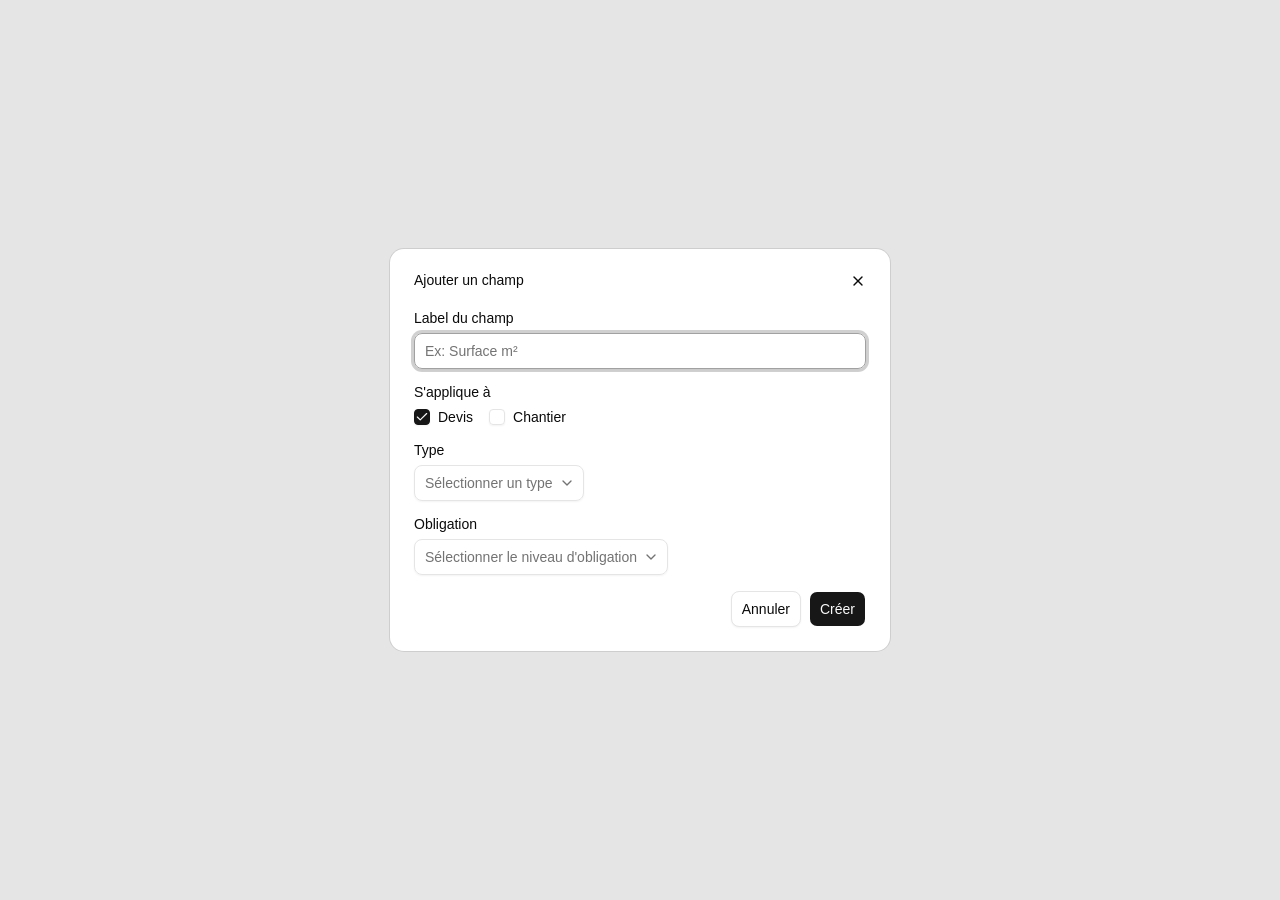
Test: CreateCustomFieldDialog › shows validation errors for empty fields
This screenshot has width=1280, height=900.
Click the button "Créer" at coordinates (838, 609), box [809,591,866,627]
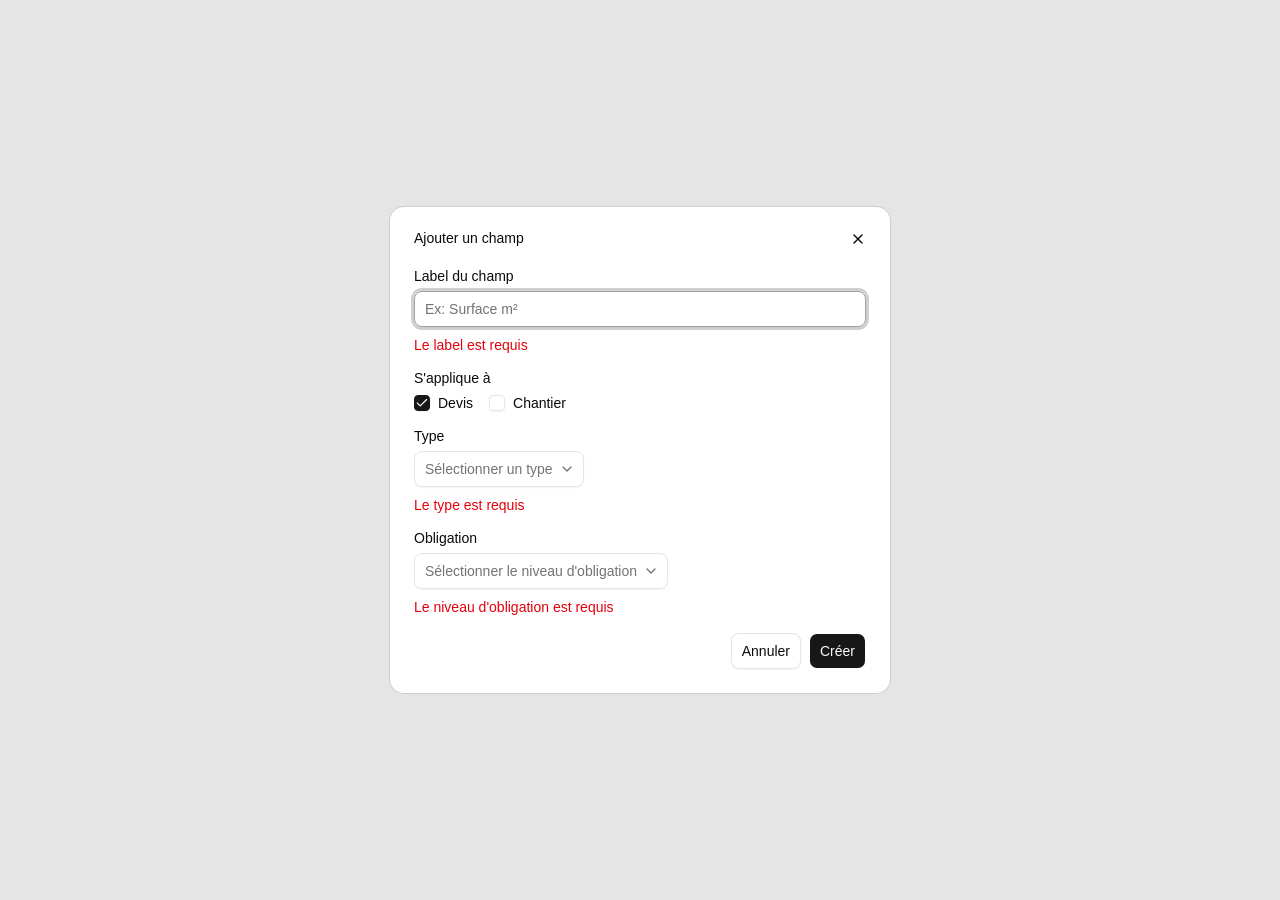
Now the text "Le label est requis" is shown, box [414,337,528,353]
